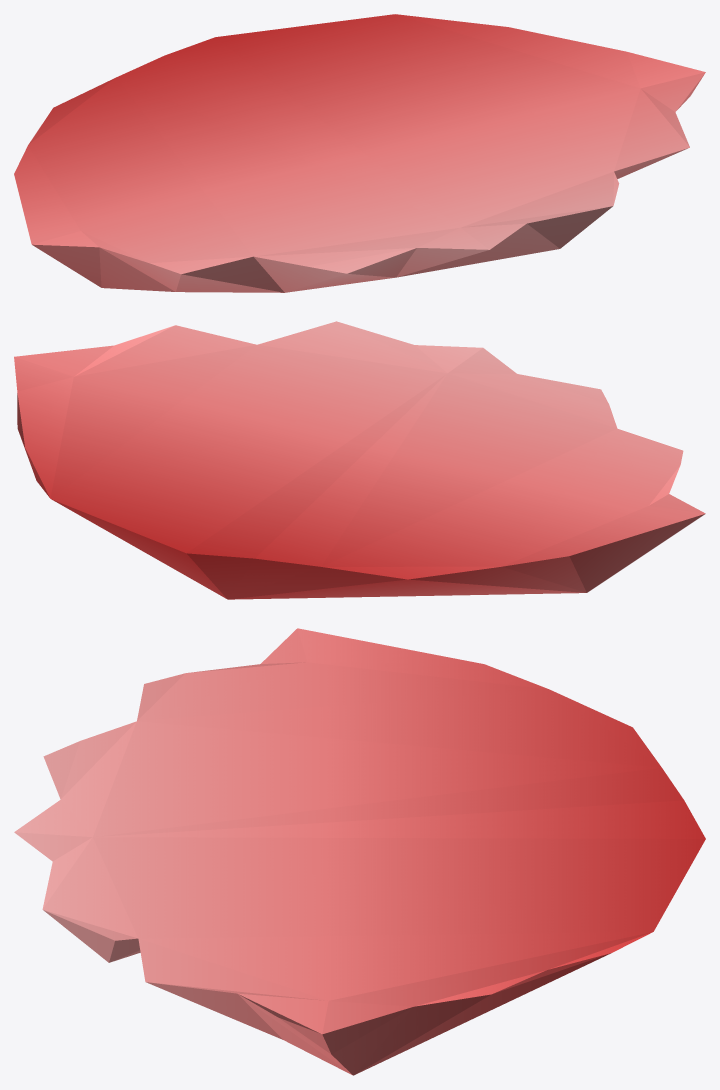
Rendered from SM_Shell_5.fbx.
3 renders of one model, top to bottom at view 1: azimuth 30°, elevation 25°; view 2: azimuth 150°, elevation 25°; view 3: azimuth 270°, elevation 25°, orthographic. The views are drawn at different scales.
Parts seen in each view (by area): view 1: Shell_5; view 2: Shell_5; view 3: Shell_5.
Boxes of the visible parts, box(x1,y1,x2,y2) form: Shell_5: box(14, 14, 705, 292); Shell_5: box(14, 321, 705, 599); Shell_5: box(14, 628, 705, 1075).
Size of the model in its own units: 32.48 by 4.02 by 23.53.
